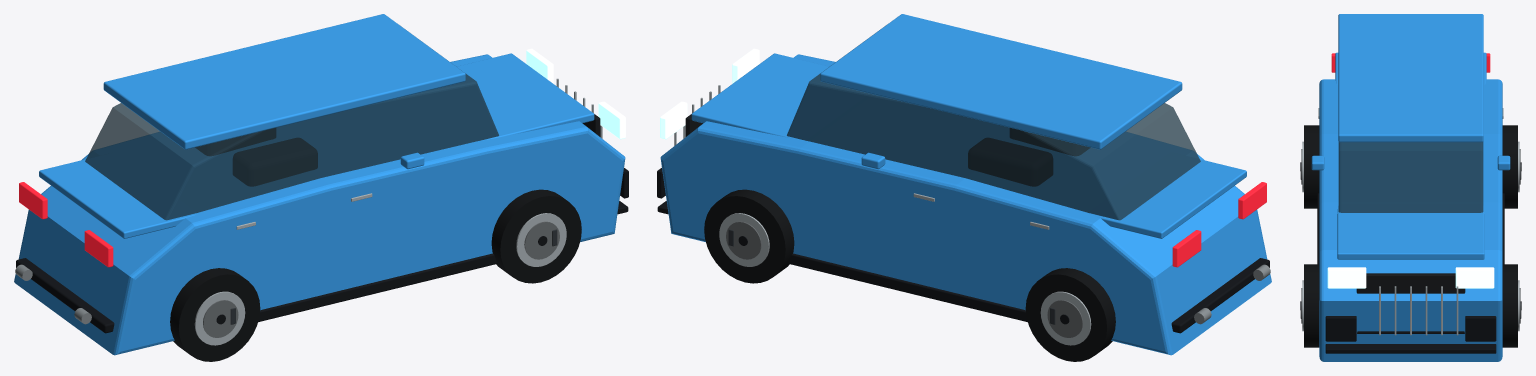
Rendered from ford_windstar.glb.
3 views of the same model, side by side, from view 1: azimuth 30°, elevation 25°; view 2: azimuth 150°, elevation 25°; view 3: azimuth 270°, elevation 25° (orthographic). The views are drawn at different scales.
Parts seen in each view (by area): view 1: sculpted_body, glasshouse, roof, hood_center, rear_deck, rear_right_wheel_tire, front_right_wheel_tire, side_skirt_1, seat_1, rear_diffuser, rear_right_wheel_rim, front_right_wheel_rim (+7 smaller); view 2: sculpted_body, glasshouse, roof, hood_center, rear_deck, rear_left_wheel_tire, front_left_wheel_tire, side_skirt_-1, seat_-1, rear_diffuser, rear_left_wheel_rim, front_left_wheel_rim (+7 smaller); view 3: sculpted_body, roof, glasshouse, hood_center, front_grille, front_splitter, front_left_wheel_tire, front_right_wheel_tire, rear_left_wheel_tire, rear_right_wheel_tire, headlight_right, headlight_left (+7 smaller).
Boxes of the visible parts, <box> form: sculpted_body: <box>14,54,625,355</box>; glasshouse: <box>85,25,498,220</box>; roof: <box>103,14,465,149</box>; hood_center: <box>417,53,594,140</box>; rear_deck: <box>39,153,198,238</box>; rear_right_wheel_tire: <box>170,268,260,361</box>; front_right_wheel_tire: <box>491,189,581,283</box>; side_skirt_1: <box>258,253,497,322</box>; seat_1: <box>233,138,317,185</box>; rear_diffuser: <box>16,258,114,333</box>; rear_right_wheel_rim: <box>194,291,245,345</box>; front_right_wheel_rim: <box>516,213,566,266</box>; sculpted_body: <box>660,54,1271,355</box>; glasshouse: <box>787,25,1200,220</box>; roof: <box>820,14,1182,149</box>; hood_center: <box>691,53,868,140</box>; rear_deck: <box>1087,153,1246,238</box>; rear_left_wheel_tire: <box>1025,268,1115,361</box>; front_left_wheel_tire: <box>704,189,794,283</box>; side_skirt_-1: <box>788,253,1027,322</box>; seat_-1: <box>968,138,1052,185</box>; rear_diffuser: <box>1171,258,1269,333</box>; rear_left_wheel_rim: <box>1040,291,1091,345</box>; front_left_wheel_rim: <box>719,213,769,266</box>; sculpted_body: <box>1319,79,1502,361</box>; roof: <box>1338,14,1483,142</box>; glasshouse: <box>1338,142,1483,212</box>; hood_center: <box>1337,205,1484,259</box>; front_grille: <box>1356,273,1465,333</box>; front_splitter: <box>1325,344,1496,353</box>; front_left_wheel_tire: <box>1502,264,1517,347</box>; front_right_wheel_tire: <box>1304,264,1319,347</box>; rear_left_wheel_tire: <box>1502,125,1517,208</box>; rear_right_wheel_tire: <box>1304,125,1319,208</box>; headlight_right: <box>1327,267,1366,288</box>; headlight_left: <box>1455,267,1494,288</box>.
Size of the model in its own units: 5.66 by 2.1 by 2.28.
